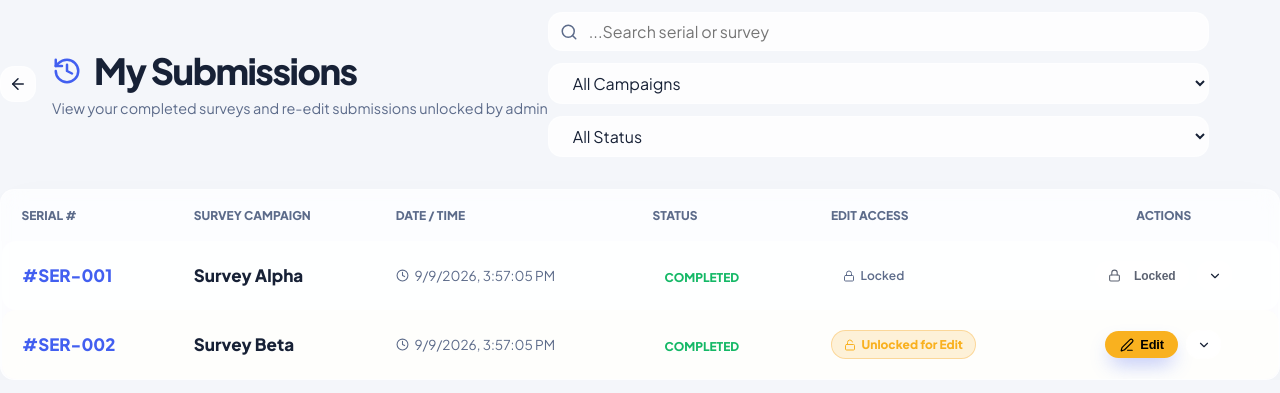
AgentResponseHistory Component Tests › filters responses by campaign dropdown
Select Survey Alpha from the campaign dropdown
Select "Survey Alpha" in the 1st dropdown showing "All Campaigns": (878, 84) x1=548 y1=63 x2=1209 y2=104
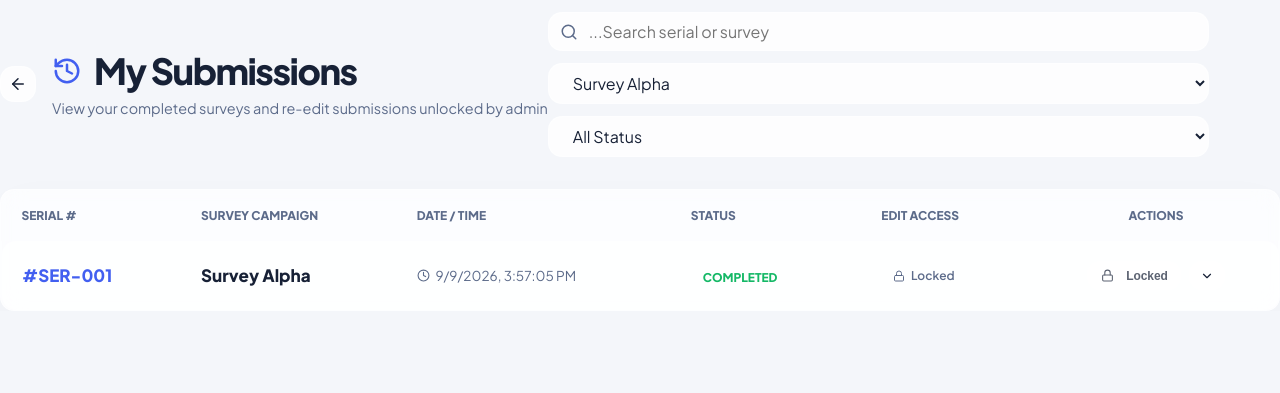
Expected: the text "#SER-001" is shown, x1=22 y1=264 x2=112 y2=286
Expected: the text "#SER-002" is gone
